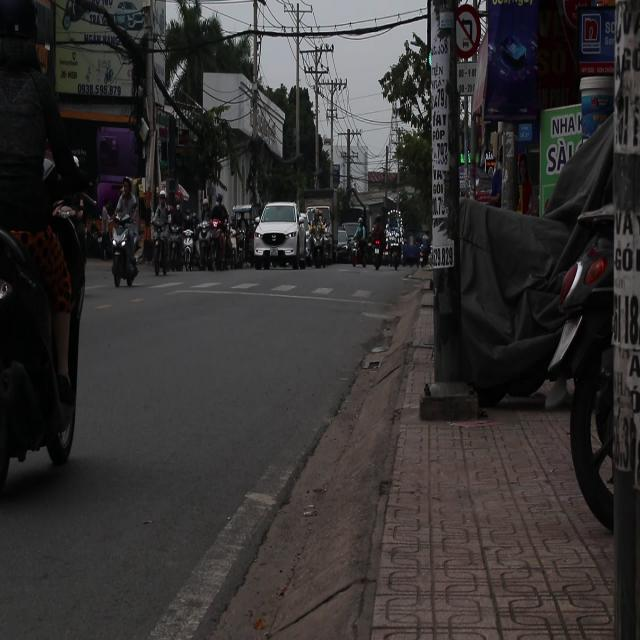car: (334, 227, 352, 262)
motorbike: (0, 150, 96, 468), (110, 213, 143, 290), (151, 212, 175, 284), (210, 214, 227, 278), (182, 228, 200, 284)
truck: (253, 202, 312, 270)
